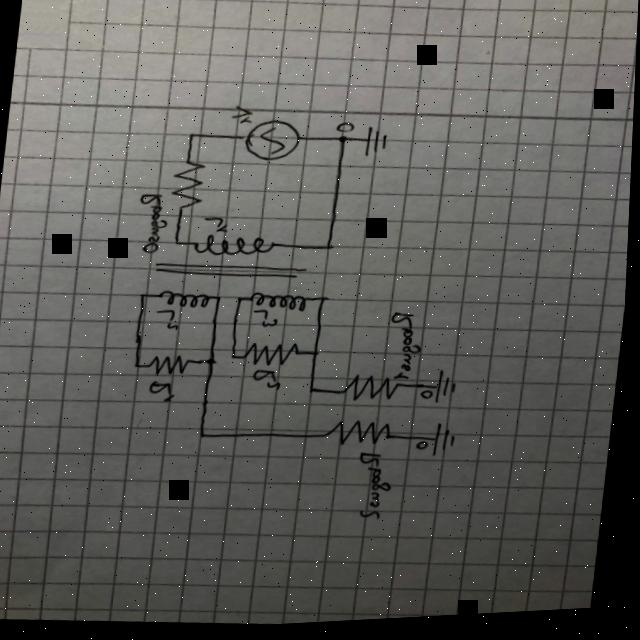ground: (362, 127, 393, 160), (434, 425, 461, 462), (436, 371, 461, 409)
junction: (138, 290, 153, 302), (197, 430, 212, 442), (131, 361, 147, 372), (322, 242, 336, 254), (212, 294, 227, 305), (205, 357, 220, 368), (172, 238, 185, 250), (336, 135, 349, 147), (310, 350, 323, 362), (186, 131, 200, 142), (317, 296, 331, 307), (235, 296, 248, 307), (308, 386, 321, 396), (230, 353, 242, 363)
resistor: (323, 419, 398, 453), (169, 158, 210, 212), (340, 374, 403, 406), (242, 340, 304, 371), (150, 352, 197, 377)
source: (242, 116, 303, 166)
text: (355, 453, 401, 524), (386, 312, 431, 384), (134, 192, 172, 255), (254, 368, 286, 393), (149, 379, 180, 404), (156, 308, 184, 333), (253, 308, 283, 331), (203, 215, 231, 234), (232, 106, 254, 126), (336, 123, 355, 135), (421, 392, 436, 405), (418, 443, 433, 454)
transformer: (159, 227, 319, 320)
